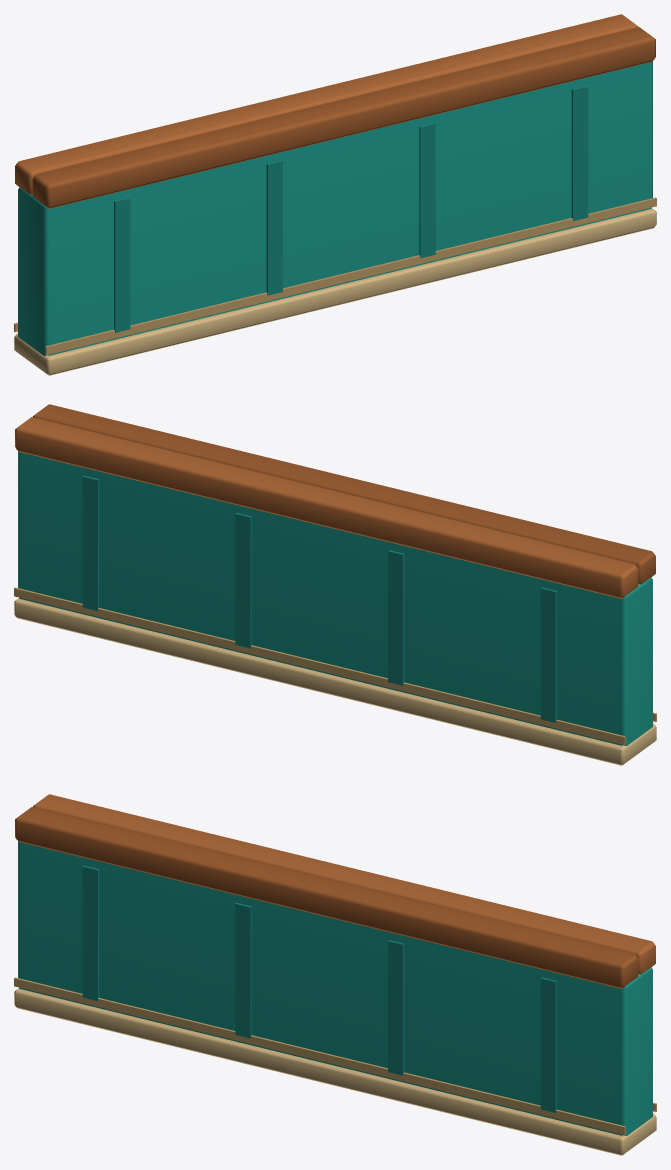
File: tropic-wall2.glb
3 renders of one model, top to bottom at view 1: azimuth 30°, elevation 25°; view 2: azimuth 150°, elevation 25°; view 3: azimuth 330°, elevation 25°, orthographic.
Parts seen in each view (by area): view 1: tropic-wall2; view 2: tropic-wall2; view 3: tropic-wall2.
Part boxes in pixels (box(x1,y1,x2,y2)): tropic-wall2: box(14, 14, 656, 375); tropic-wall2: box(14, 404, 656, 765); tropic-wall2: box(14, 794, 656, 1155).
Size of the model in its own units: 4 by 1.2 by 0.4.
